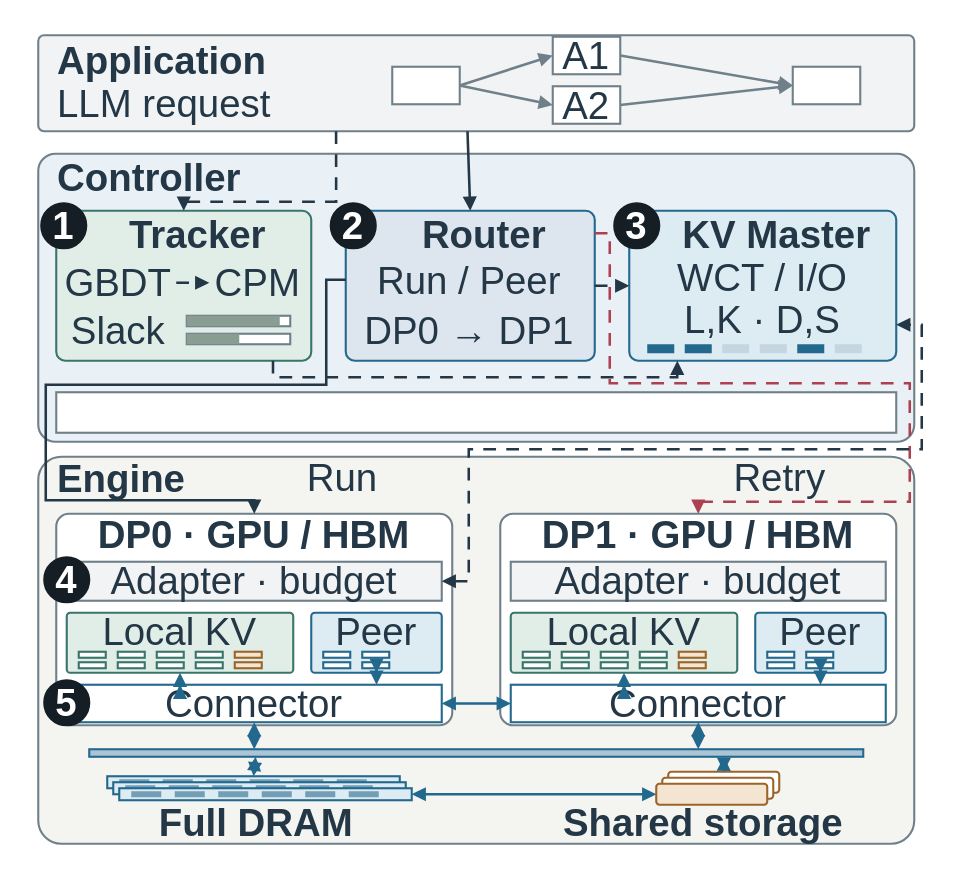
Some shapes in this 960 by 879 pixel diagram are drawn without their labels. Here are the shapes that lost their labels. From the top down, the centre of each, then its label:
At point (425, 85): "A0".
At point (826, 85): "A3".
At point (475, 411): "Directory · manifests / log / leases".
